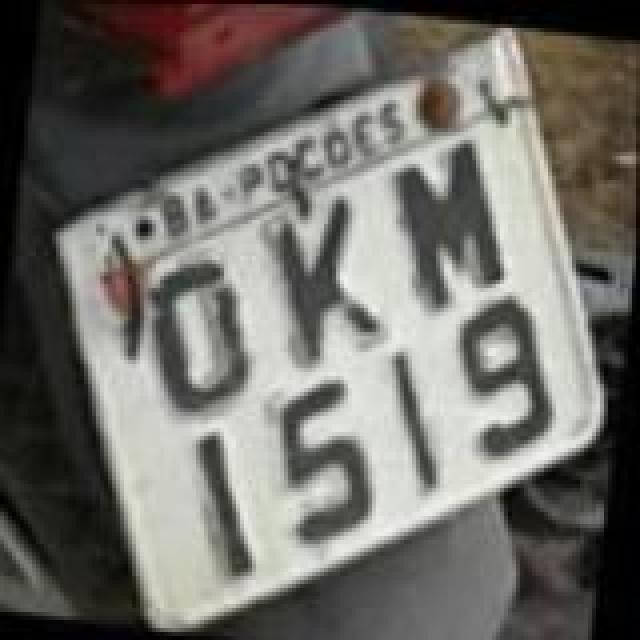1: (166, 394, 274, 594), (182, 418, 274, 582), (372, 338, 460, 494)
5: (258, 368, 394, 552)
9: (442, 286, 570, 458)
K: (260, 186, 408, 374)
M: (376, 128, 524, 316)
O: (130, 242, 278, 426)
